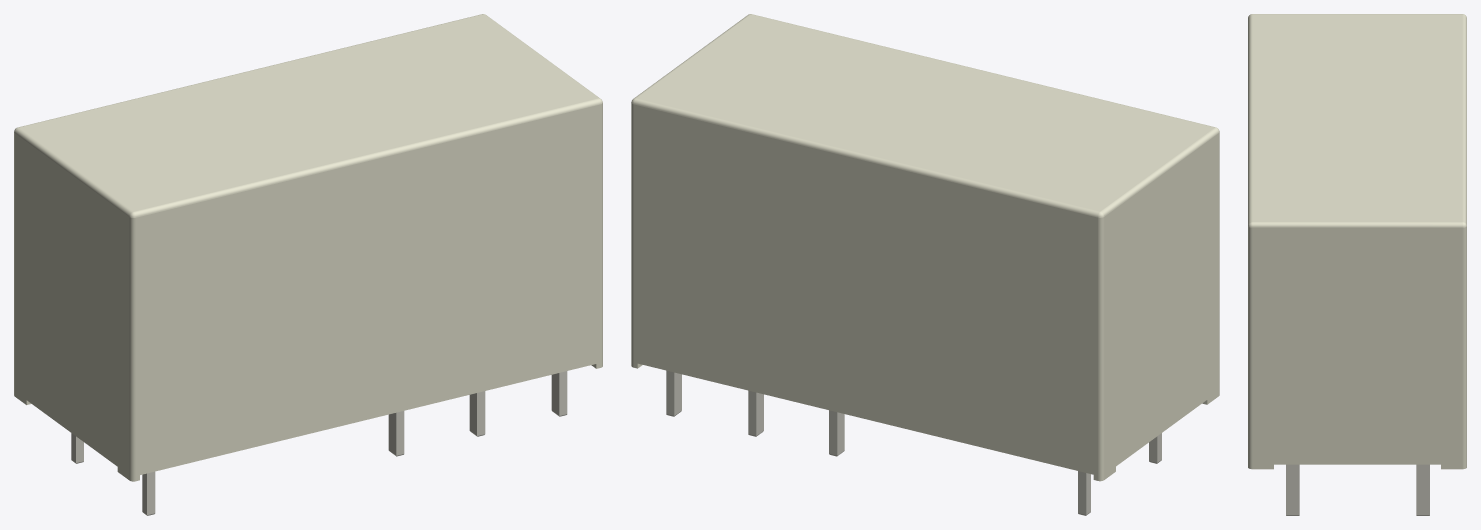
The model's file is kc-relay_dpdt_hongfa_hf115f-2z-x4.glb.
3 views of the same model, side by side, from view 1: azimuth 30°, elevation 25°; view 2: azimuth 150°, elevation 25°; view 3: azimuth 270°, elevation 25° (orthographic). The views are drawn at different scales.
Visible parts, largest first — view 1: 0.75_0.75_0.6666666666666666_0, 0.6666666666666666_0.6666666666666666_0.5833333333333334_0.8; view 2: 0.75_0.75_0.6666666666666666_0, 0.6666666666666666_0.6666666666666666_0.5833333333333334_0.8; view 3: 0.75_0.75_0.6666666666666666_0, 0.6666666666666666_0.6666666666666666_0.5833333333333334_0.8.
Boxes of the visible parts, left/top/right/bottom form: 0.75_0.75_0.6666666666666666_0: left=14, top=14, right=602, bottom=481; 0.6666666666666666_0.6666666666666666_0.5833333333333334_0.8: left=71, top=371, right=567, bottom=515; 0.75_0.75_0.6666666666666666_0: left=631, top=14, right=1219, bottom=481; 0.6666666666666666_0.6666666666666666_0.5833333333333334_0.8: left=666, top=370, right=1161, bottom=515; 0.75_0.75_0.6666666666666666_0: left=1248, top=14, right=1466, bottom=469; 0.6666666666666666_0.6666666666666666_0.5833333333333334_0.8: left=1286, top=464, right=1429, bottom=515.
Bounding box in the file's own units: 2.9 × 1.92 × 1.27.
